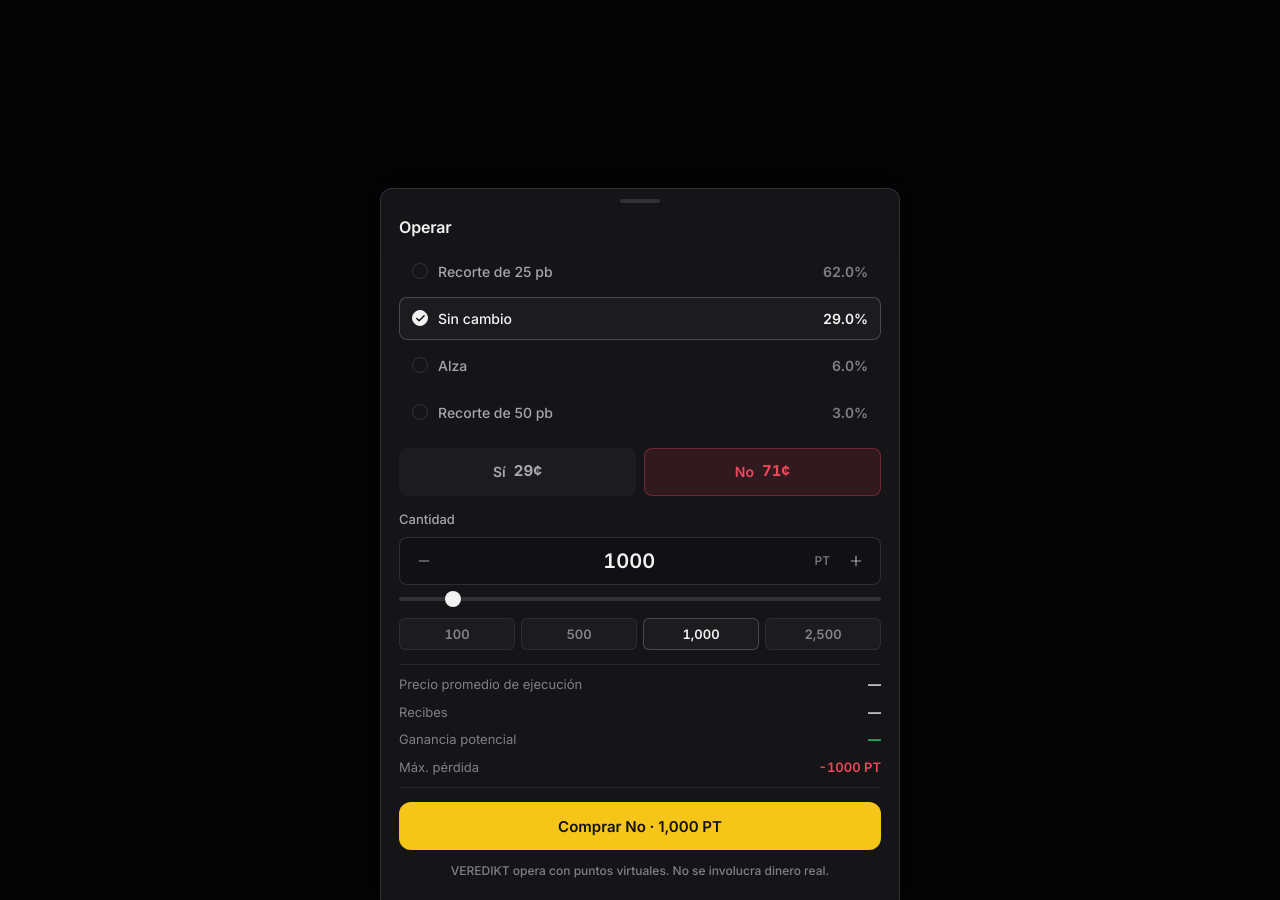
QuickTradeSheet sin sesión › el acceso entra en la misma hoja, la compra sigue montada y «Volver» la devuelve intacta
This screenshot has width=1280, height=900.
Replace the text in the field with "250" at (629, 561), box [444,546,814,576]
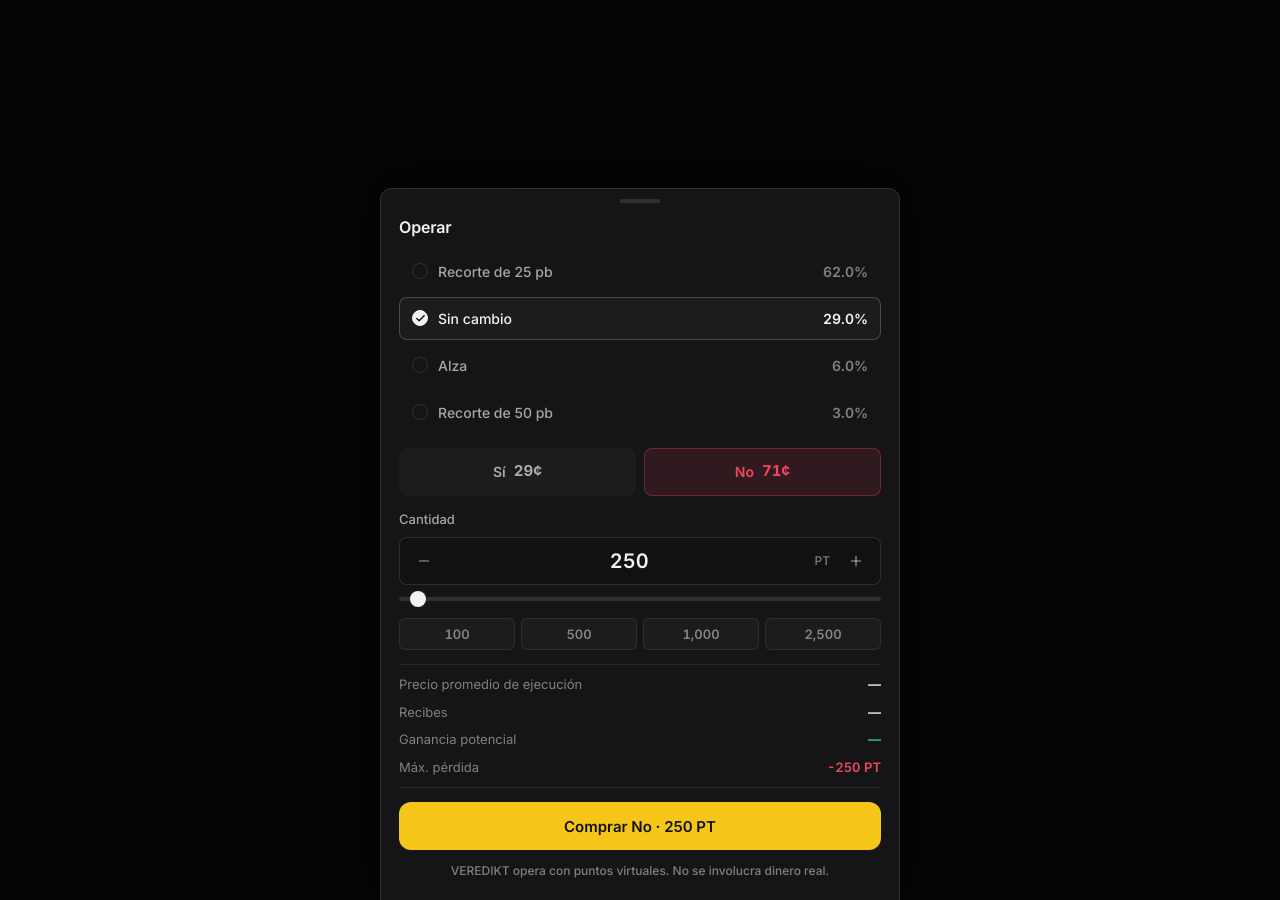
Expected: the button "Comprar No · 250 PT" is shown
Click the button "Comprar No · 250 PT" at (640, 826), box [399,802,881,850]
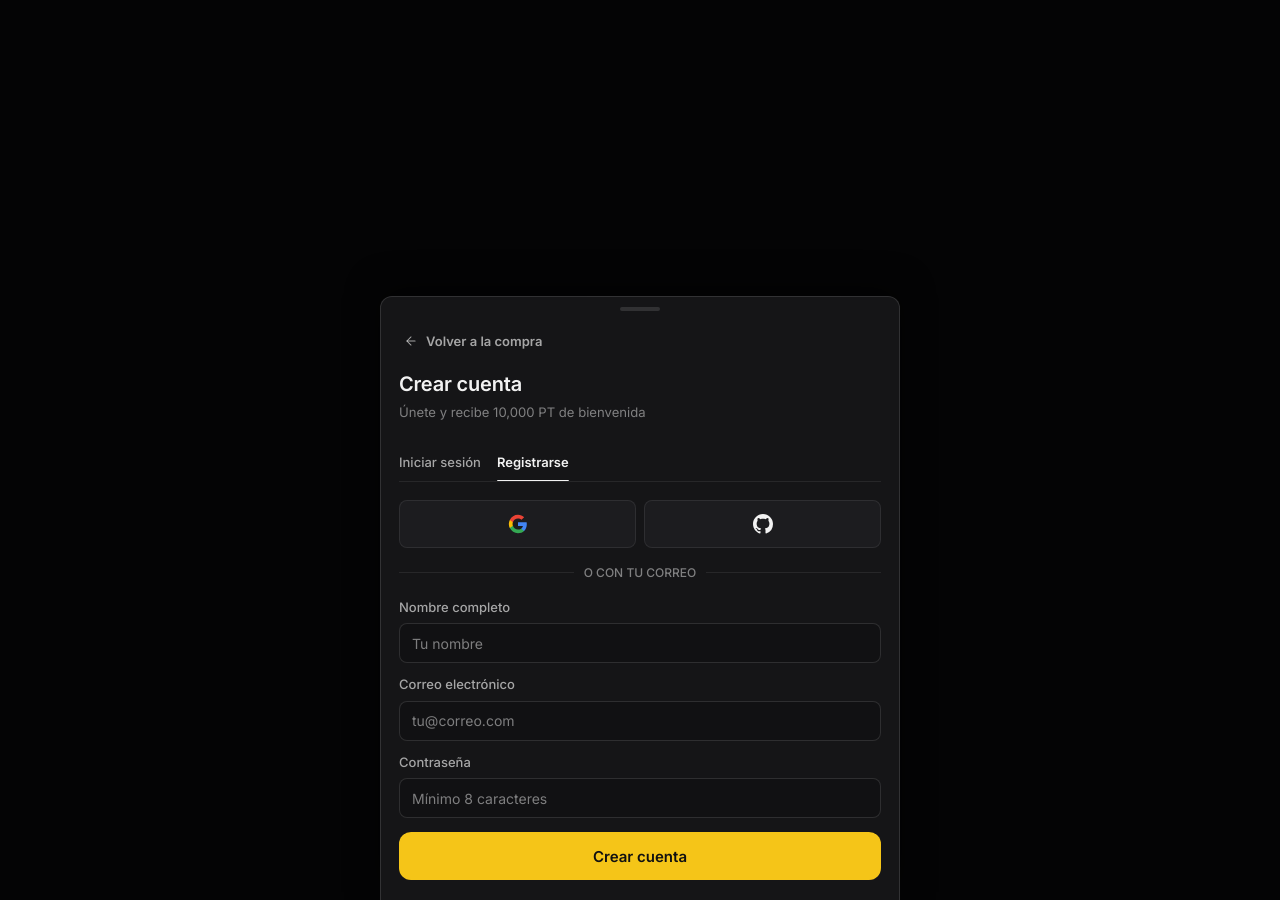
Expected: the text "Crear cuenta" is shown, [399,372,522,396]
Click the button "Volver a la compra" at (473, 341), box [391,325,555,357]
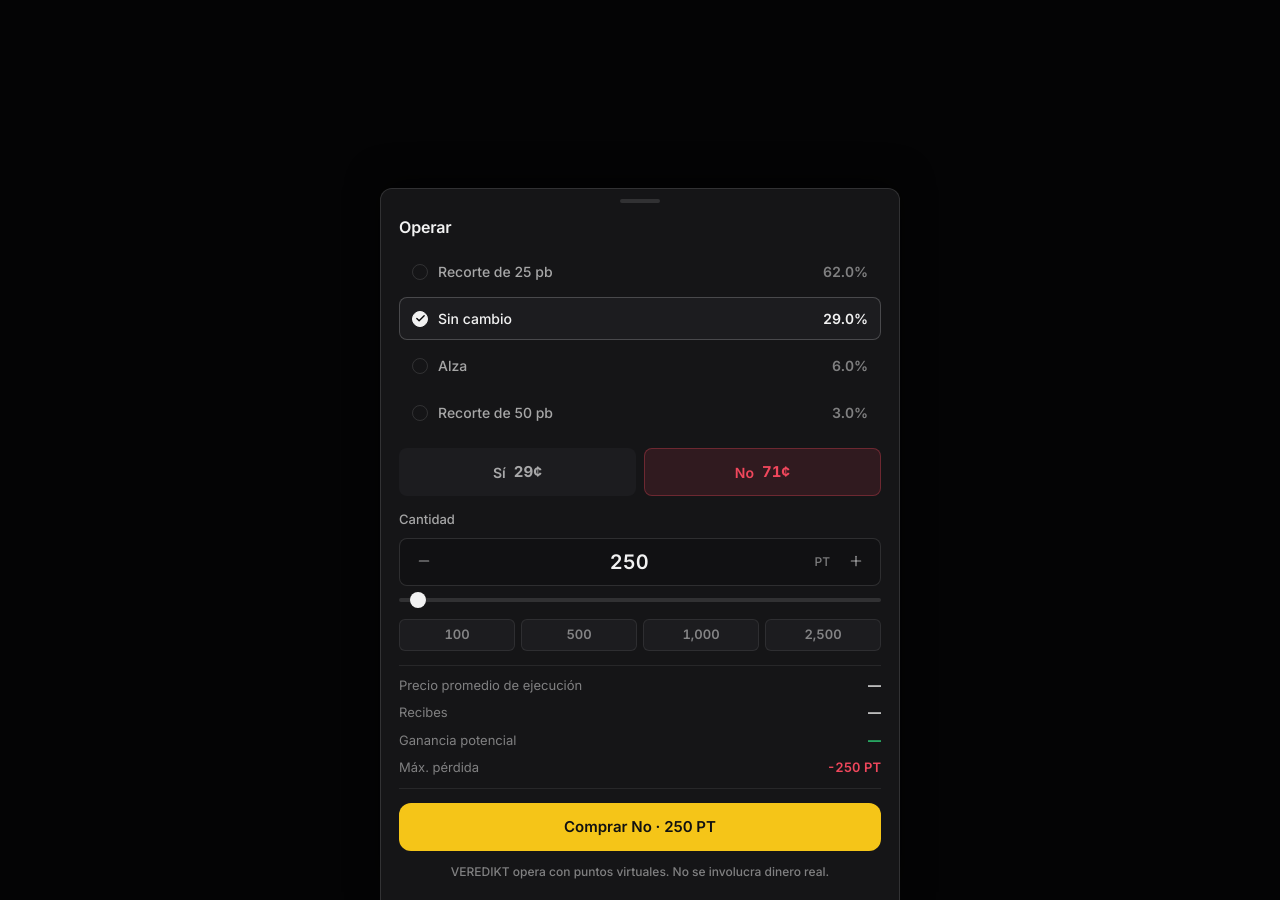
Expected: the button "Comprar No · 250 PT" is shown, [399,802,881,850]
